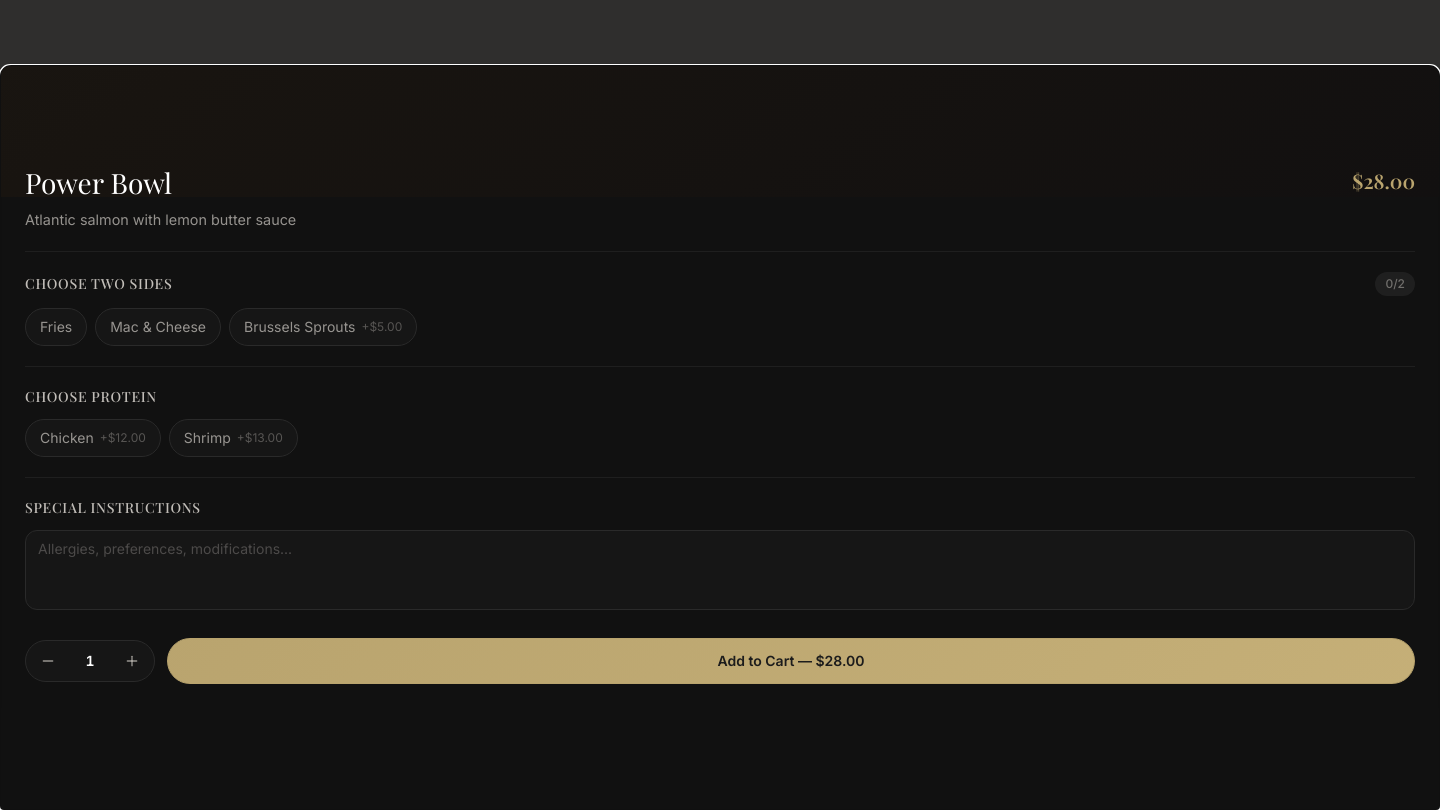
Test case: ItemModal › updates total price with modifiers and quantity
(page scrolled)
Expected: the button "Add to Cart — $28.00" is shown, [167,638,1415,684]
Note: Select chicken (+$12)
Click the button "Chicken +$12.00" at (93, 438), box [25,419,161,457]
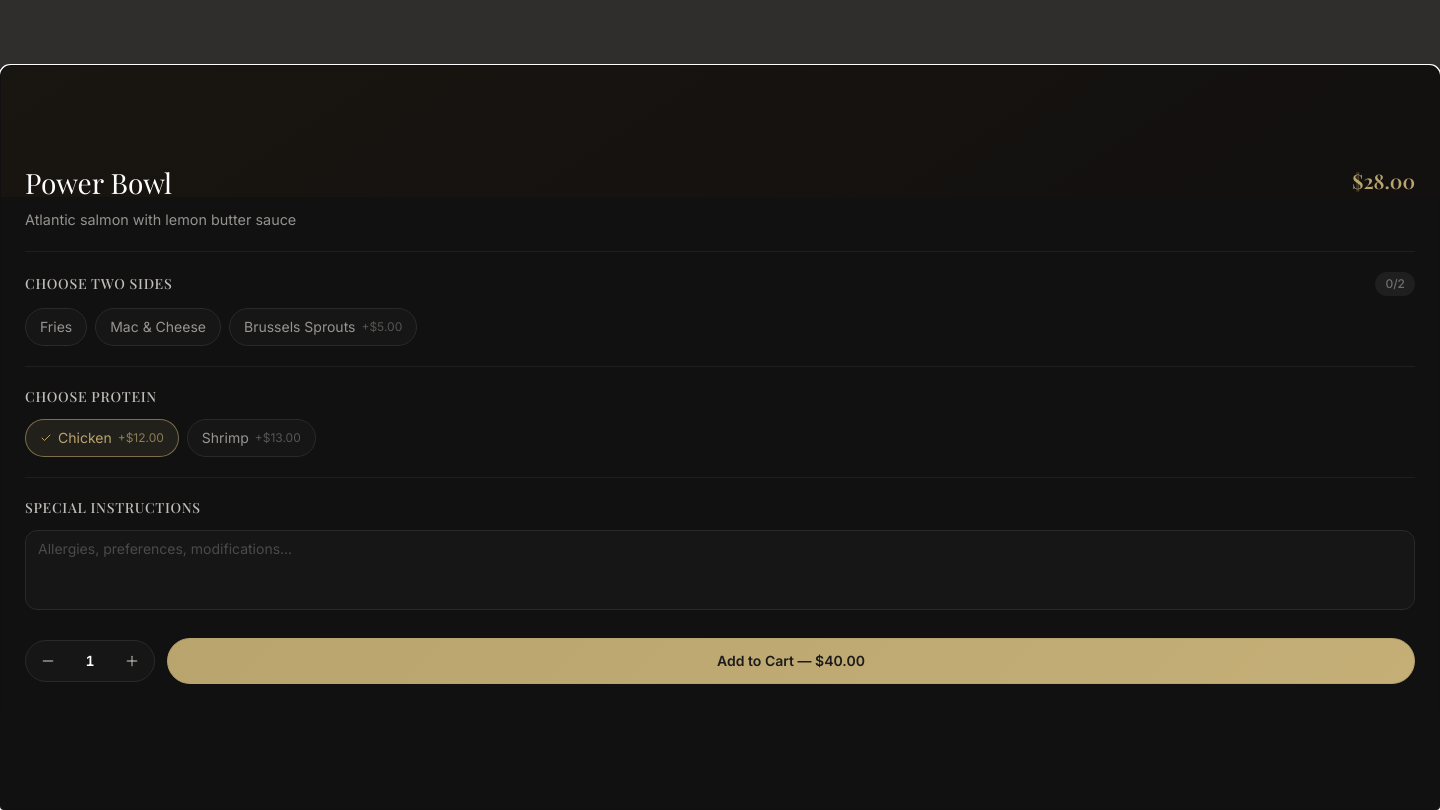
Expected: the button "Add to Cart — $40.00" is shown, [167,638,1415,684]
Note: Increase quantity to 2
Click the button named "Increase quantity" at (132, 661), box [110,643,154,679]
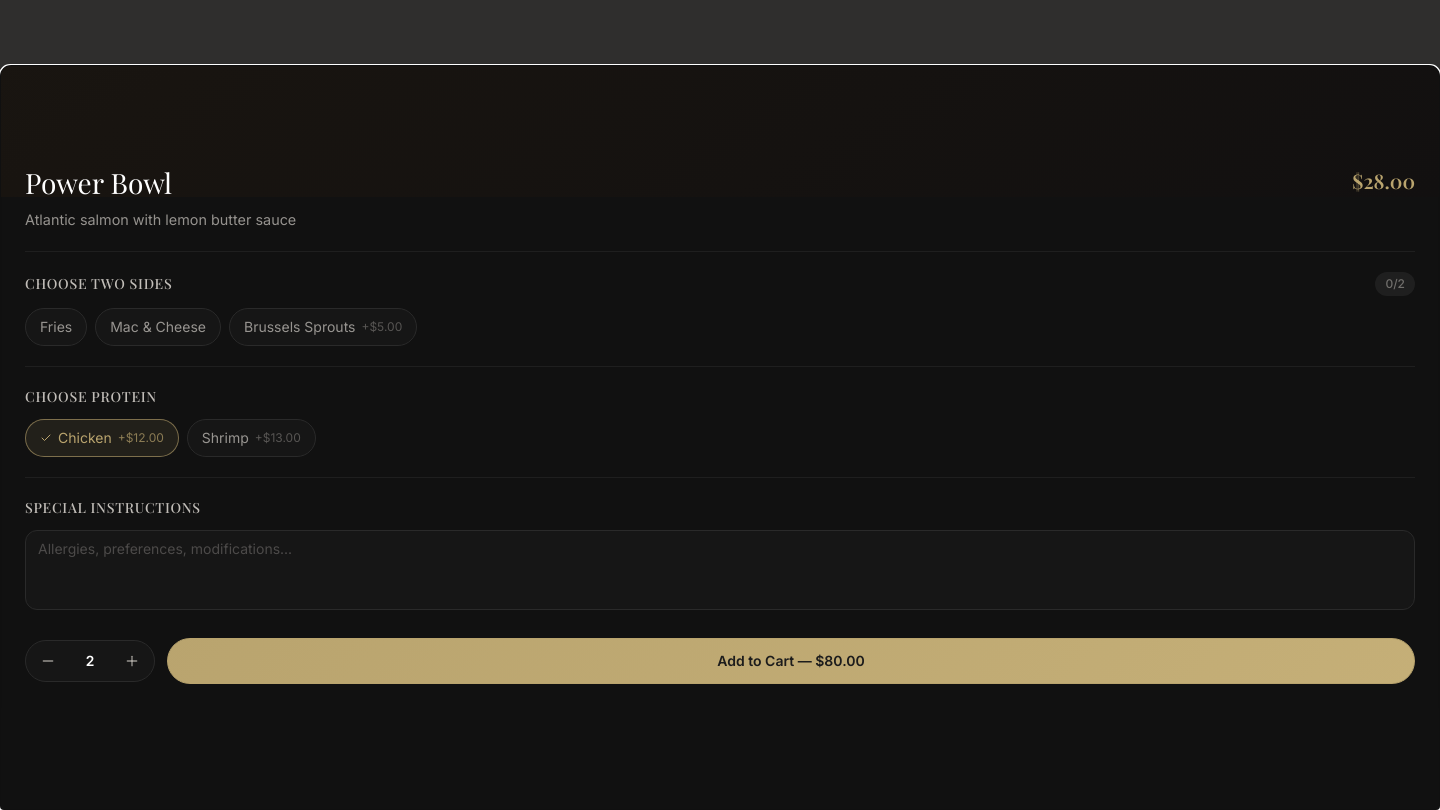
Expected: the button "Add to Cart — $80.00" is shown, [167,638,1415,684]
